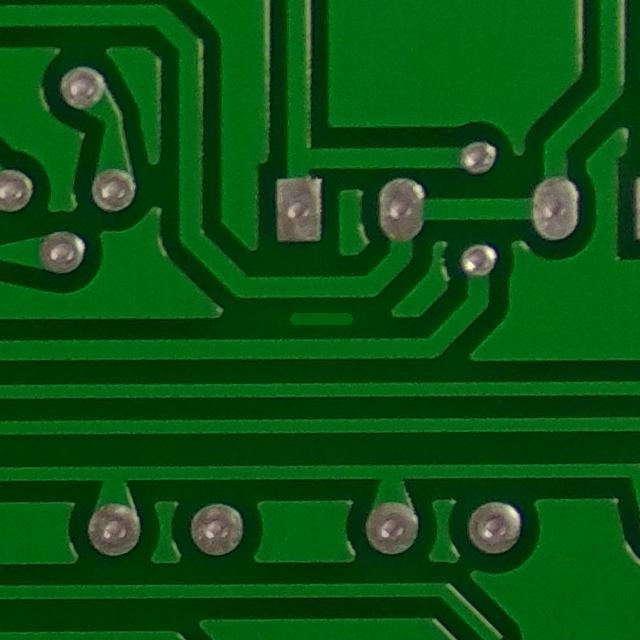spurious_copper: (277, 296, 363, 345)
